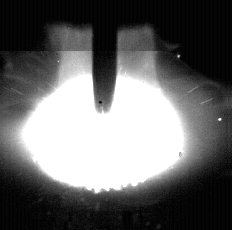arame: (94, 0, 118, 113)
poca: (21, 0, 185, 230)
